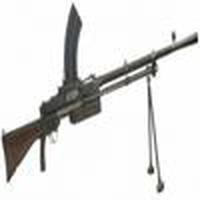gun: (3, 4, 200, 183)
